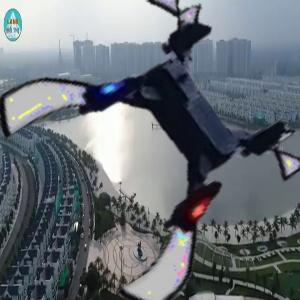drone: (21, 16, 293, 288)
